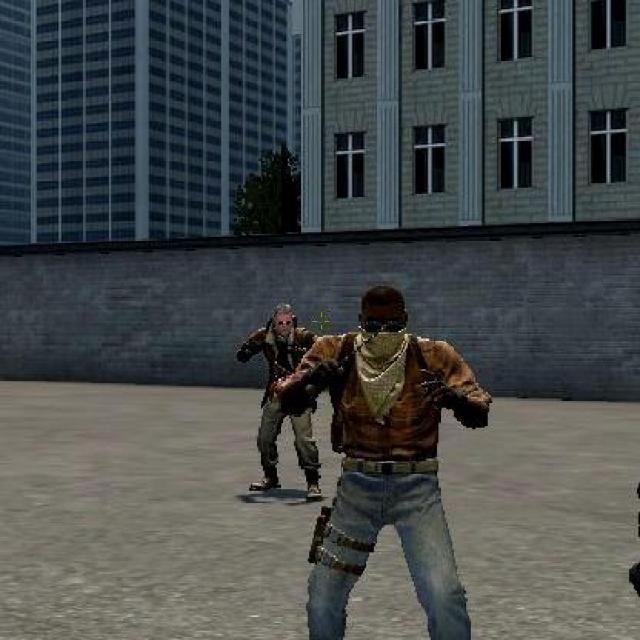T: (284, 283, 498, 639), (236, 304, 330, 503)
T_HEAD: (356, 284, 409, 362), (268, 302, 297, 338)
